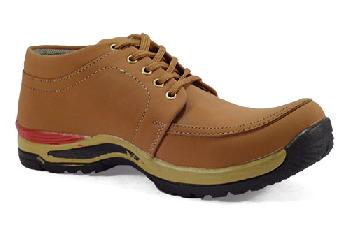Footwear: (10, 28, 337, 201)
